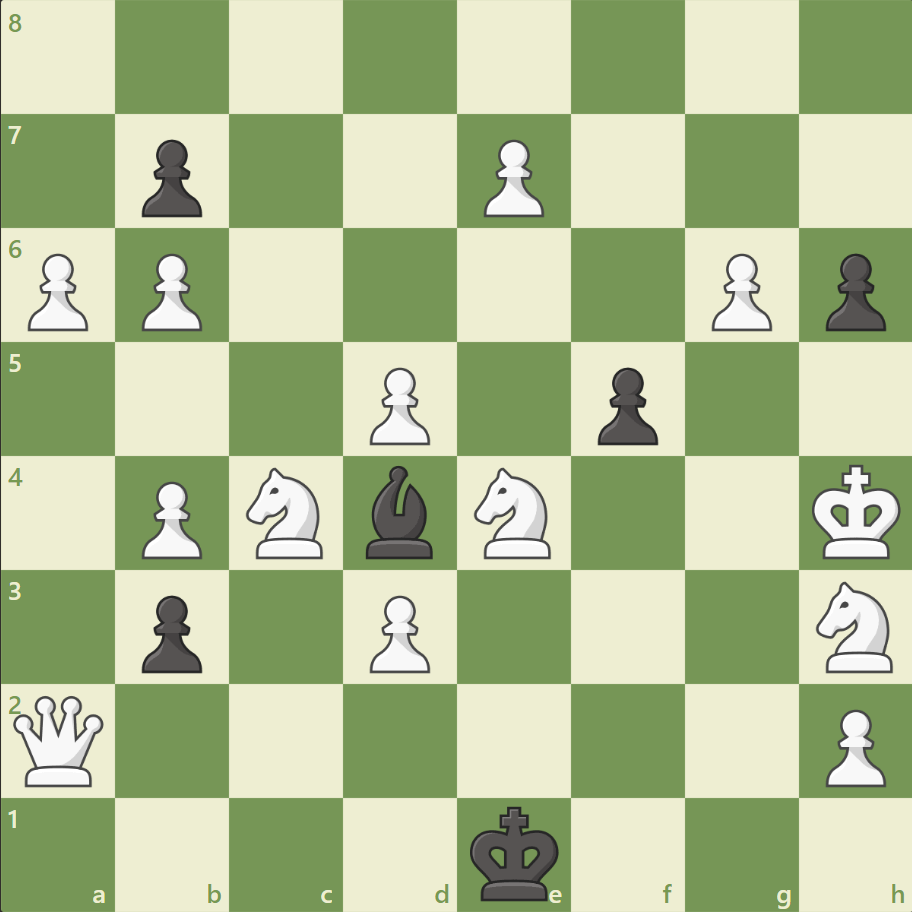K: (806, 458, 906, 566)
N: (238, 461, 335, 564), (465, 461, 562, 564), (806, 575, 903, 677)
P: (474, 132, 549, 223), (20, 246, 95, 337), (133, 246, 208, 337), (701, 246, 776, 337), (133, 473, 208, 564), (361, 359, 435, 450), (361, 586, 435, 677), (815, 700, 889, 791)
Q: (10, 690, 109, 789)
b: (358, 460, 442, 563)
k: (465, 798, 565, 906)
p: (133, 132, 208, 223), (133, 586, 208, 677), (815, 246, 889, 337), (588, 359, 662, 450)
